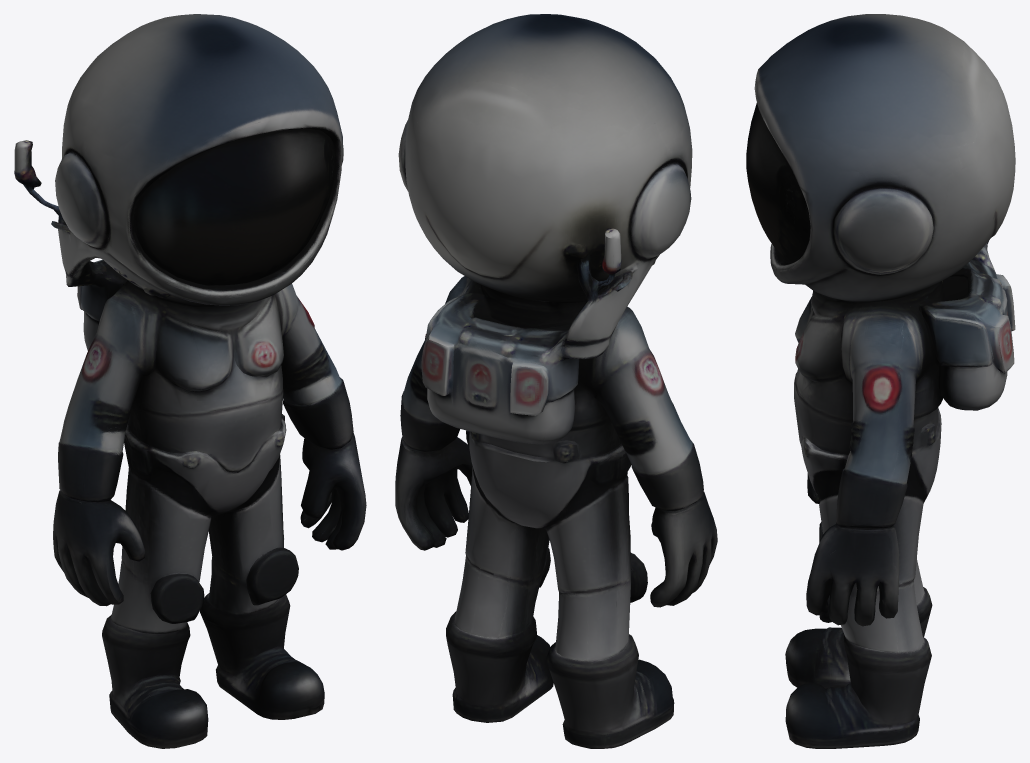
File: astronaut.glb
The picture shows the model from 3 angles, left to right: view 1: azimuth 30°, elevation 25°; view 2: azimuth 150°, elevation 25°; view 3: azimuth 270°, elevation 25°; orthographic projection. The views are drawn at different scales.
Parts seen in each view (by area): view 1: world_0; view 2: world_0; view 3: world_0.
Part boxes in pixels (x1,y1,x2,y2): world_0: (14, 14, 366, 748); world_0: (395, 14, 717, 748); world_0: (746, 14, 1015, 748).
Size of the model in its own units: 0.4552 by 0.9997 by 0.3611.
Materials: 1 (1 with a texture image).
